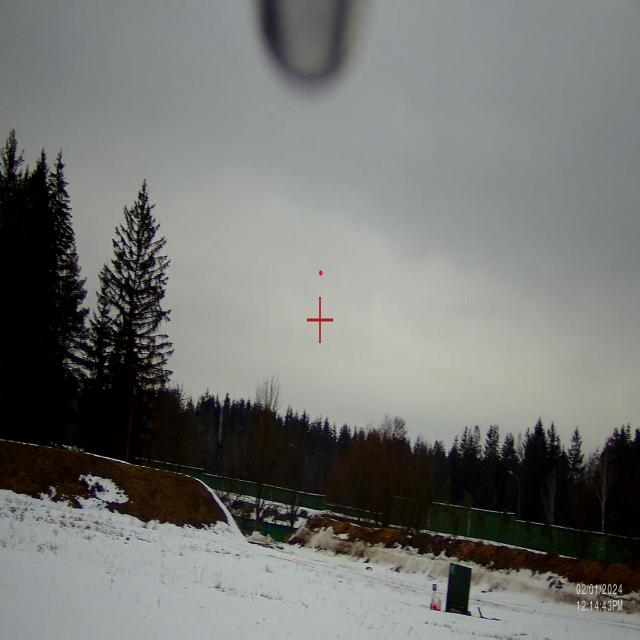entire: (314, 266, 326, 282)
